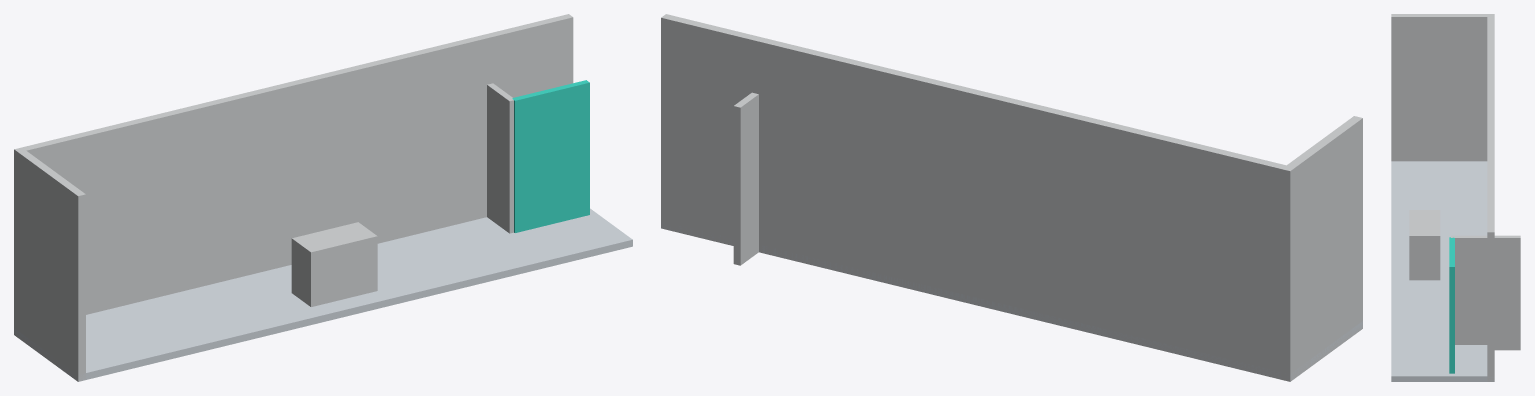
3 views of the same model, side by side, from view 1: azimuth 30°, elevation 25°; view 2: azimuth 150°, elevation 25°; view 3: azimuth 270°, elevation 25° (orthographic). The views are drawn at different scales.
Visible parts, largest first — view 1: Exhibition Booth Concept; view 2: Exhibition Booth Concept; view 3: Exhibition Booth Concept.
Part boxes in pixels (x1=…): Exhibition Booth Concept: x1=14, y1=14, x2=632, y2=381; Exhibition Booth Concept: x1=661, y1=14, x2=1362, y2=381; Exhibition Booth Concept: x1=1391, y1=14, x2=1520, y2=381.
Bounding box in the file's own units: 10 × 3.2 × 2.5.
